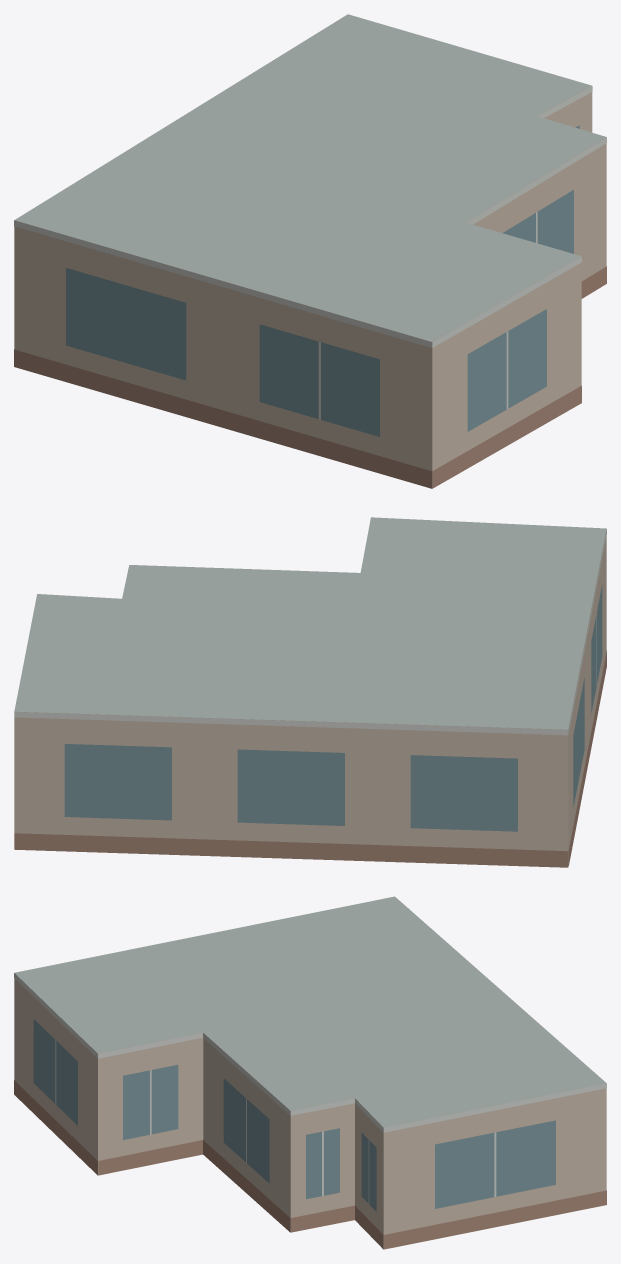
Rendered from survey-upis-32612151.glb.
The picture shows the model from 3 angles, top to bottom: view 1: azimuth 30°, elevation 25°; view 2: azimuth 150°, elevation 25°; view 3: azimuth 270°, elevation 25°; orthographic projection. The views are drawn at different scales.
Parts seen in each view (by area): view 1: survey-upis-32612151.tmp; view 2: survey-upis-32612151.tmp; view 3: survey-upis-32612151.tmp.
Boxes of the visible parts, x1,y1,x2,y2 form: survey-upis-32612151.tmp: (14,14,606,488); survey-upis-32612151.tmp: (14,517,606,867); survey-upis-32612151.tmp: (14,896,606,1249).
Size of the model in its own units: 12.45 by 3.05 by 13.47.
